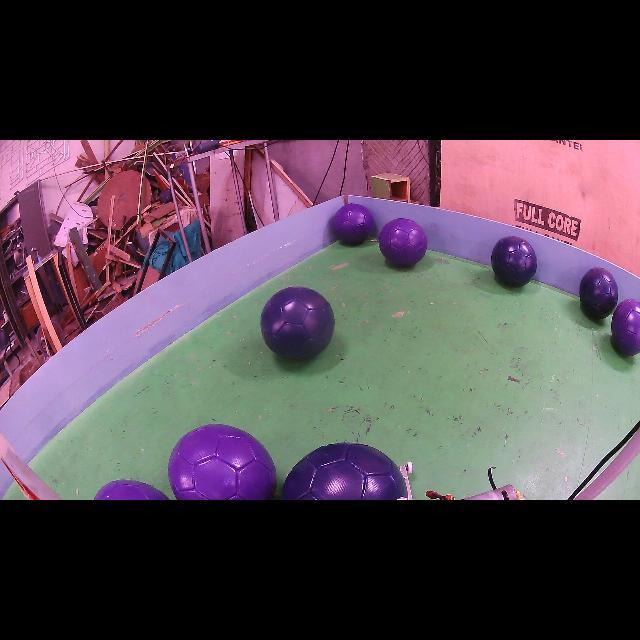B: (282, 442, 409, 500), (260, 286, 335, 359), (491, 236, 538, 286), (580, 268, 619, 319)
P: (168, 424, 276, 500), (379, 219, 428, 266), (332, 204, 375, 244), (611, 299, 640, 356), (95, 480, 169, 500)
